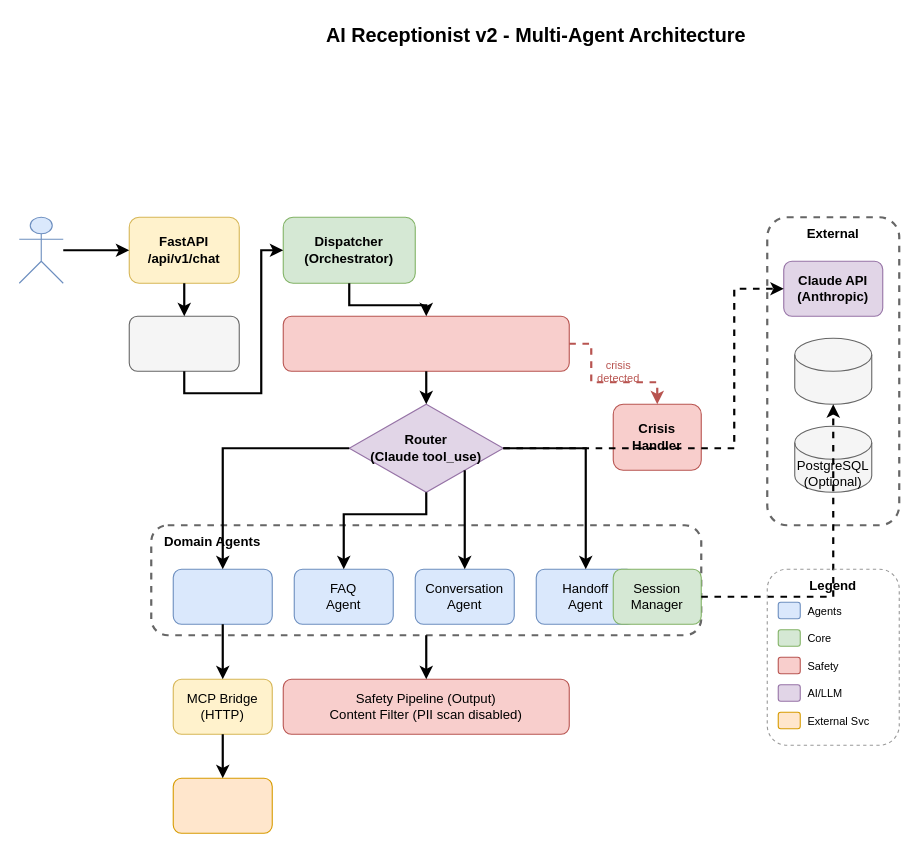
Some shapes in this 920 by 853 pixel diagram are drawn without their labels. Each missing label, with the centre of its shape:
"Calendar Agent (External)" goes at pixel 222 805.
"Middleware Auth + Rate Limit" goes at pixel 183 343.
"Patient" goes at pixel 40 249.
"Redis (Cache)" goes at pixel 833 370.
"Safety Pipeline (Input) Sanitizer → PII Detector → Crisis → Content Filter" goes at pixel 425 343.
"Scheduling Agent" goes at pixel 222 596.
